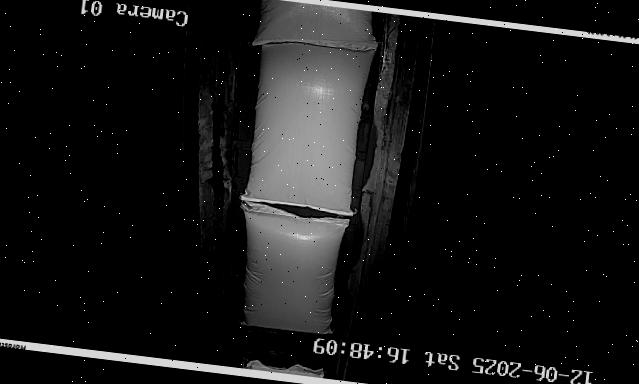bag: (241, 29, 375, 215), (226, 201, 349, 334), (251, 0, 374, 58)
